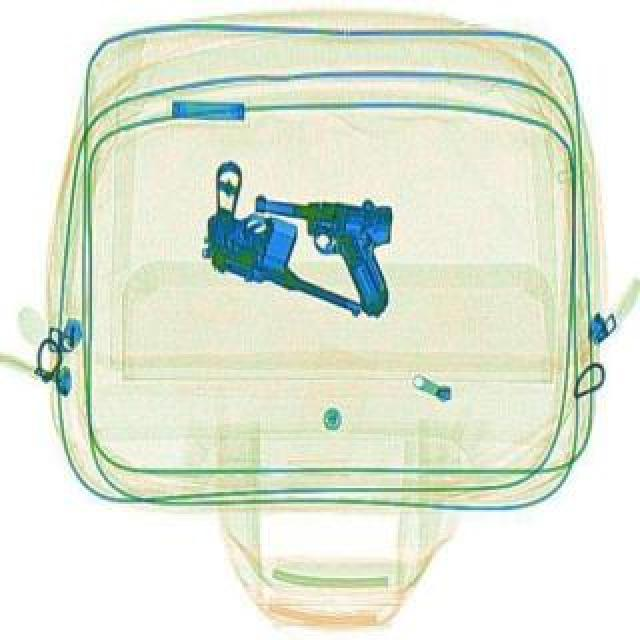gun: (180, 156, 400, 318), (248, 190, 400, 312)
